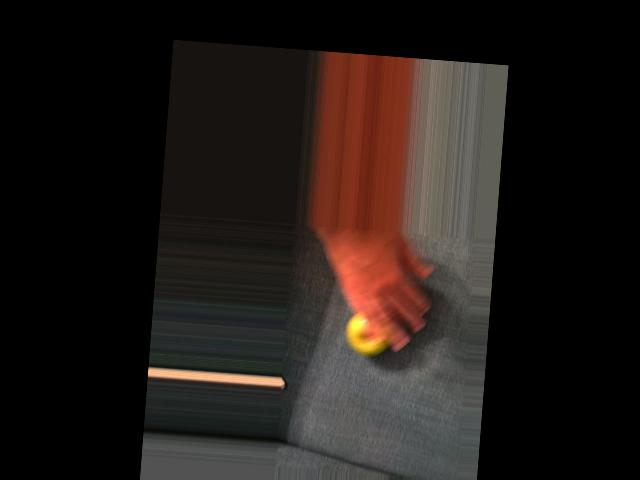apple: (332, 274, 402, 366)
